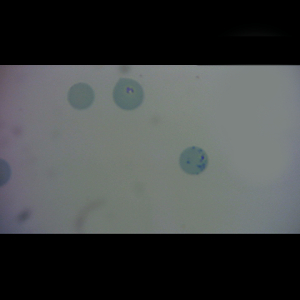aggregate reticulocyte: (179, 146, 208, 175)
erythrocyte: (112, 78, 144, 111), (67, 82, 95, 111)
